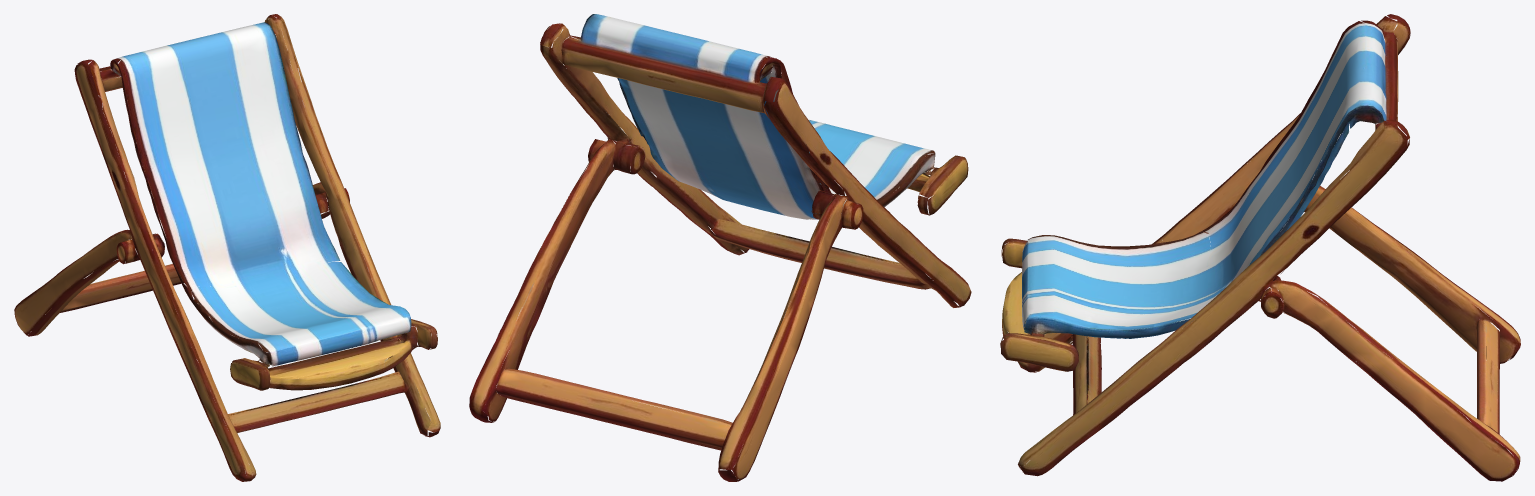
File: sezlong.glb
3 views of the same model, side by side, from view 1: azimuth 30°, elevation 25°; view 2: azimuth 150°, elevation 25°; view 3: azimuth 270°, elevation 25° (orthographic). The views are drawn at different scales.
Visible parts, largest first — view 1: geometry_0; view 2: geometry_0; view 3: geometry_0.
Part boxes in pixels (box(x1,y1,x2,y2)): geometry_0: box(14, 14, 440, 481); geometry_0: box(469, 14, 971, 481); geometry_0: box(1000, 14, 1520, 481).
Size of the model in its own units: 0.5808 by 0.762 by 0.9967.
Materials: 1 (1 with a texture image).
